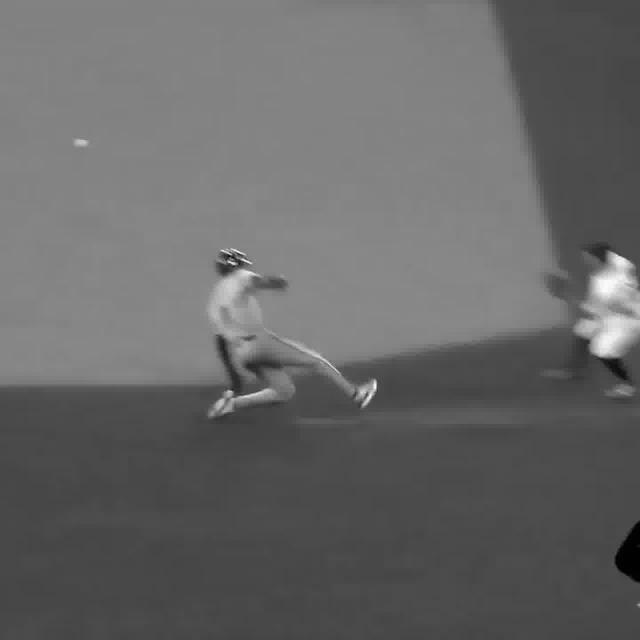baseball: (72, 138, 84, 148)
baseball_glove: (544, 265, 572, 301)
shoe: (352, 378, 378, 406), (544, 365, 582, 383), (214, 391, 238, 415), (606, 384, 638, 401)
